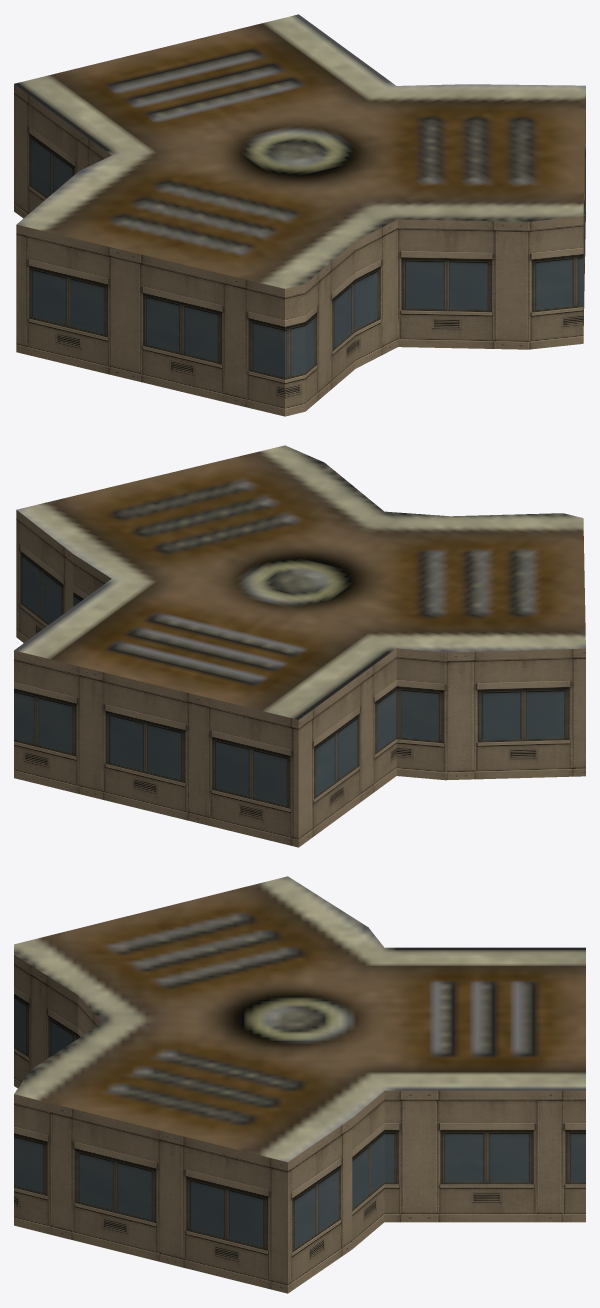
The model's file is light_roof21.glb.
The picture shows the model from 3 angles, top to bottom: view 1: azimuth 30°, elevation 25°; view 2: azimuth 150°, elevation 25°; view 3: azimuth 270°, elevation 25°; orthographic projection. The views are drawn at different scales.
Visible parts, largest first — view 1: buildings/saxarba/light/light_roof21; view 2: buildings/saxarba/light/light_roof21; view 3: buildings/saxarba/light/light_roof21.
Part boxes in pixels (bbox=[...]): buildings/saxarba/light/light_roof21: bbox=[14, 14, 585, 416]; buildings/saxarba/light/light_roof21: bbox=[14, 445, 585, 847]; buildings/saxarba/light/light_roof21: bbox=[14, 876, 585, 1293].
Bounding box in the file's own units: 84 × 18 × 71.
